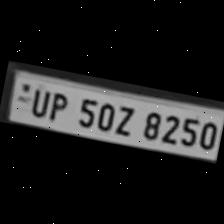0: (195, 117, 220, 150), (92, 98, 116, 132)
2: (157, 109, 181, 145)
5: (69, 92, 99, 129), (174, 112, 202, 148)
8: (135, 105, 164, 142)
P: (42, 87, 72, 124)
U: (23, 84, 52, 119)
Z: (110, 100, 139, 139)
